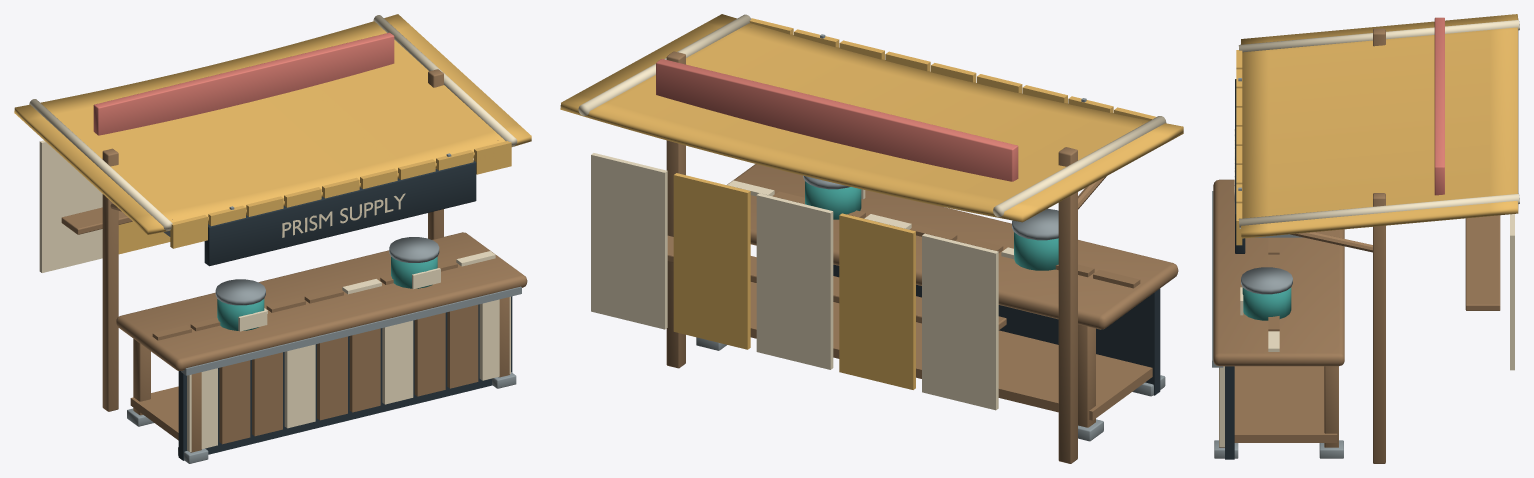
Rendered from AH03_StallStock.fbx.
3 views of the same model, side by side, from view 1: azimuth 30°, elevation 25°; view 2: azimuth 150°, elevation 25°; view 3: azimuth 270°, elevation 25° (orthographic). The views are drawn at different scales.
Parts seen in each view (by area): view 1: AH03_StallStock_AH03_CanvasGold, AH03_StallStock_AH03_Wood, AH03_StallStock_AH03_Dark, AH03_StallStock_AH03_Cream, AH03_StallStock_AH03_Rose, AH03_StallStock_AH03_CanvasCream, AH03_StallStock_AH03_Metal, AH03_StallStock_AH03_Mint; view 2: AH03_StallStock_AH03_CanvasGold, AH03_StallStock_AH03_CanvasCream, AH03_StallStock_AH03_Wood, AH03_StallStock_AH03_Rose, AH03_StallStock_AH03_Dark, AH03_StallStock_AH03_Mint, AH03_StallStock_AH03_Metal, AH03_StallStock_AH03_Cream; view 3: AH03_StallStock_AH03_CanvasGold, AH03_StallStock_AH03_Wood, AH03_StallStock_AH03_CanvasCream, AH03_StallStock_AH03_Metal, AH03_StallStock_AH03_Rose, AH03_StallStock_AH03_Dark, AH03_StallStock_AH03_Mint, AH03_StallStock_AH03_Cream.
Boxes of the visible parts, box(x1,y1,x2,y2) form: AH03_StallStock_AH03_CanvasGold: box(14, 14, 531, 254); AH03_StallStock_AH03_Wood: box(61, 69, 527, 452); AH03_StallStock_AH03_Dark: box(178, 160, 512, 460); AH03_StallStock_AH03_Cream: box(187, 193, 510, 451); AH03_StallStock_AH03_Rose: box(93, 32, 394, 135); AH03_StallStock_AH03_CanvasCream: box(29, 15, 517, 272); AH03_StallStock_AH03_Metal: box(127, 153, 521, 463); AH03_StallStock_AH03_Mint: box(217, 257, 437, 330); AH03_StallStock_AH03_CanvasGold: box(560, 14, 1183, 389); AH03_StallStock_AH03_CanvasCream: box(578, 14, 1166, 410); AH03_StallStock_AH03_Wood: box(666, 27, 1178, 463); AH03_StallStock_AH03_Rose: box(656, 59, 1018, 181); AH03_StallStock_AH03_Dark: box(833, 264, 1160, 395); AH03_StallStock_AH03_Mint: box(805, 181, 1058, 270); AH03_StallStock_AH03_Metal: box(696, 34, 1165, 441); AH03_StallStock_AH03_Cream: box(727, 180, 1014, 259); AH03_StallStock_AH03_CanvasGold: box(1236, 14, 1518, 245); AH03_StallStock_AH03_Wood: box(1213, 28, 1500, 463); AH03_StallStock_AH03_CanvasCream: box(1238, 20, 1519, 370); AH03_StallStock_AH03_Metal: box(1212, 78, 1343, 458); AH03_StallStock_AH03_Rose: box(1434, 17, 1444, 195); AH03_StallStock_AH03_Dark: box(1225, 79, 1245, 459); AH03_StallStock_AH03_Mint: box(1242, 287, 1291, 320); AH03_StallStock_AH03_Cream: box(1219, 129, 1279, 446).
Bounding box in the file's own units: 531 × 367 × 356.
